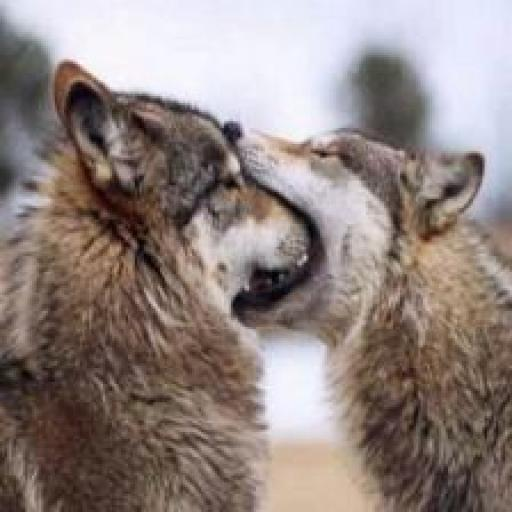wolf: (0, 64, 318, 512), (219, 103, 512, 512)
